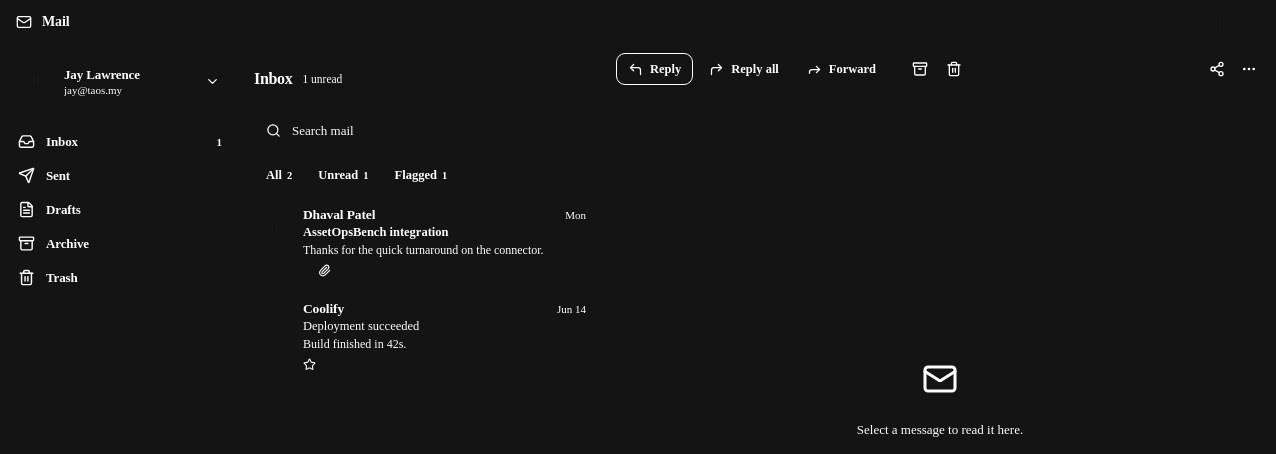
Test case: MailApp › exposes a share / send-to entry point in the reading toolbar
Click the text "AssetOpsBench integration". click: [376, 232]
box: [303,224,448,238]
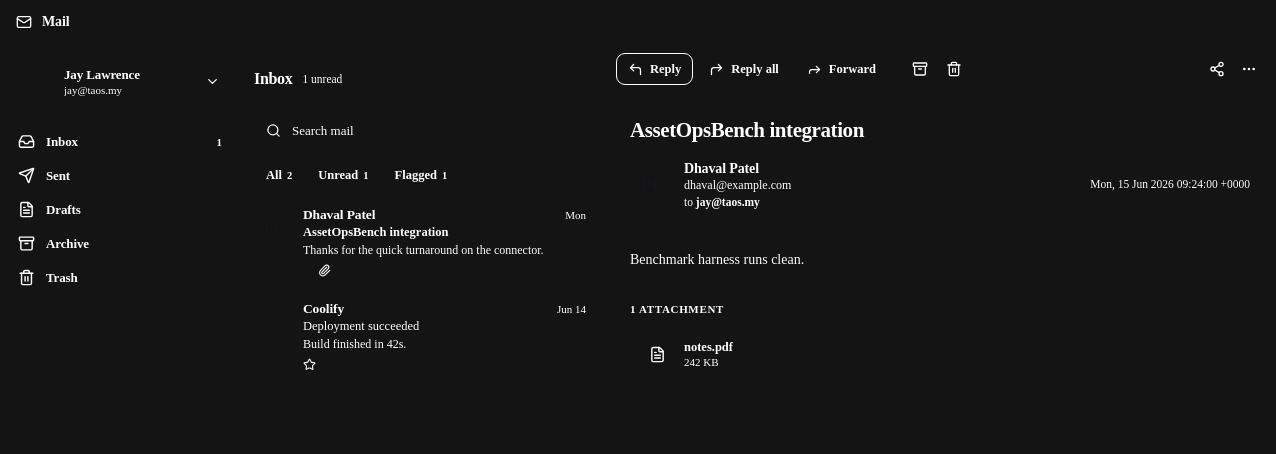
Check: the text "Benchmark harness runs clean." is shown, box [630,252,804,267]
Click the button titled "Share / Send to". click: [1217, 69]
box: [1202,54,1232,84]
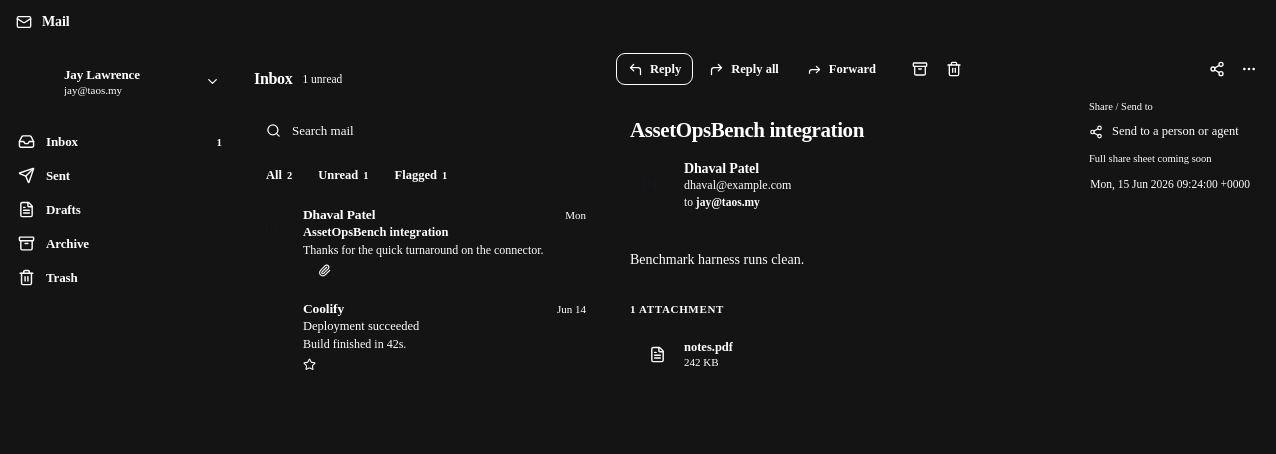
Check: the menu item "Send to a person or agent" is shown, box [1079,116,1259,147]
